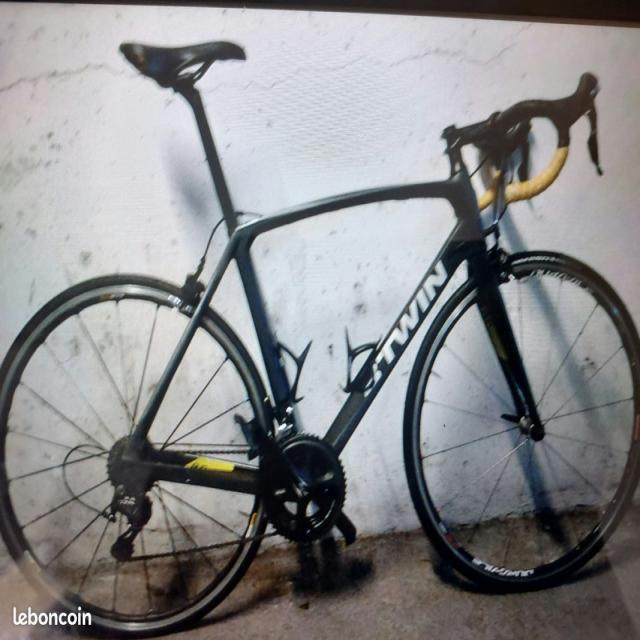Bike: (0, 41, 639, 636)
